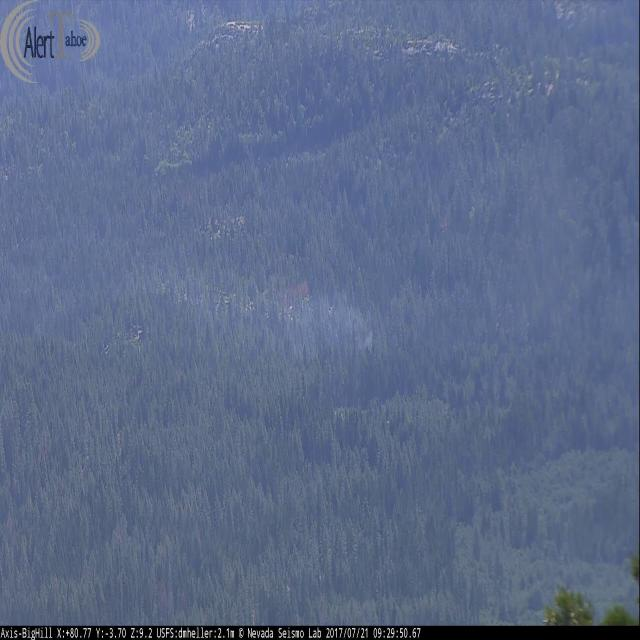smoke: (143, 262, 374, 364)
